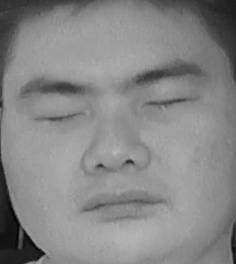blink: (28, 96, 87, 133), (143, 85, 197, 124)
mouth: (80, 182, 169, 228)
